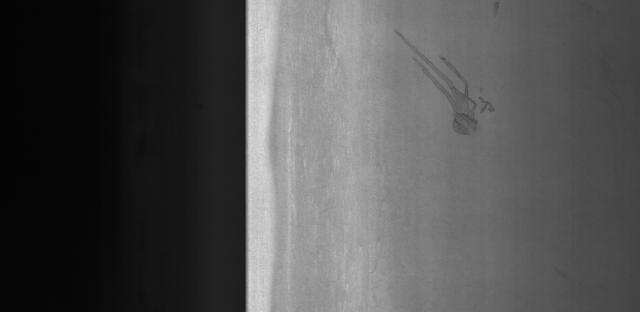water_spot: (384, 20, 504, 142)
